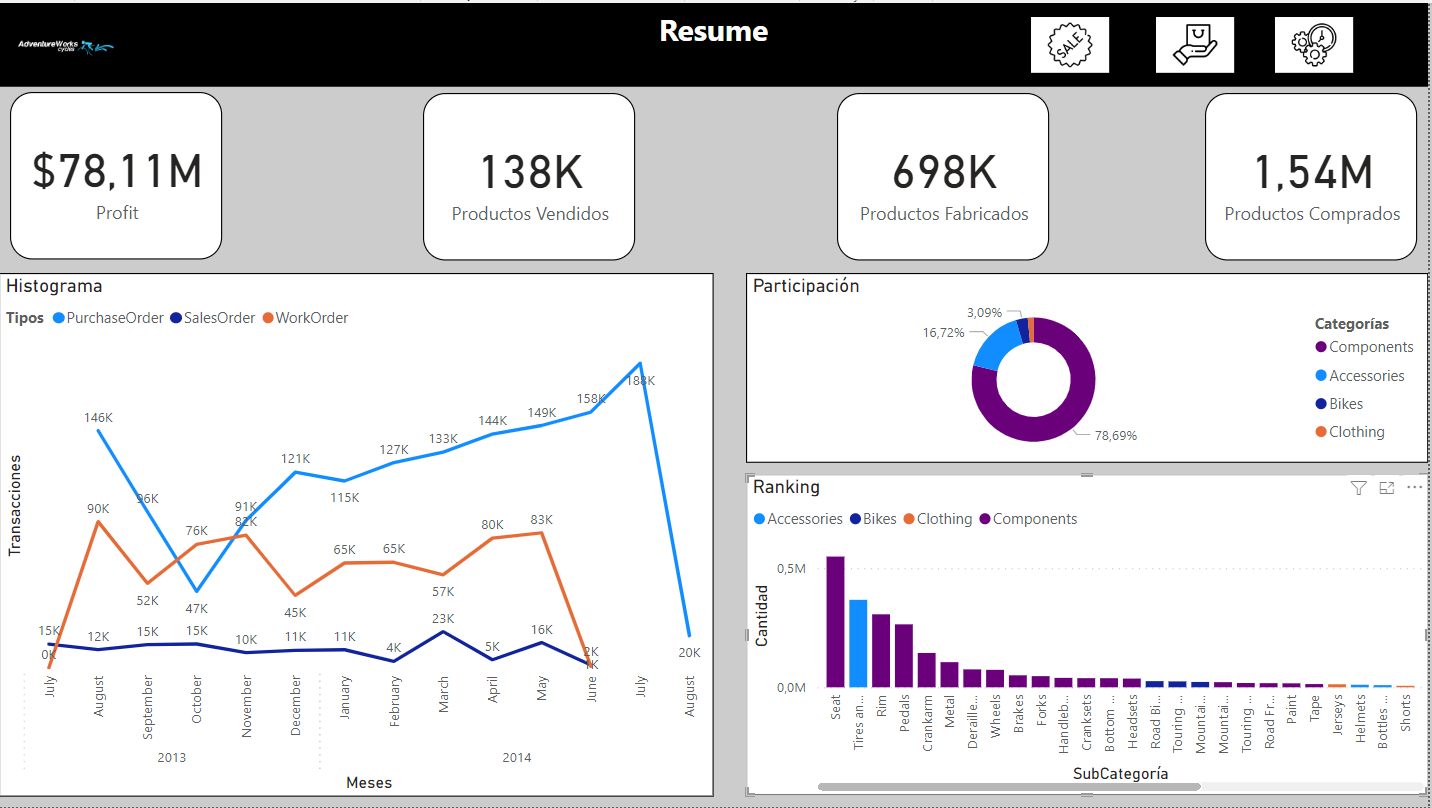

This screenshot's page, from the dashboard's own definition file:
{"tool":"powerbi","page":{"name":"Resume","canvas":[1280,720],"ordinal":1},"visuals":[{"type":"textbox","box":[0,0,1279.7,75.2],"z":500},{"type":"image","box":[0,0,120,80],"z":6000},{"type":"image","box":[950,15,69.9,50.1],"z":7000},{"type":"image","box":[1050,15,69.9,50.1],"z":8000},{"type":"image","box":[1150,15,69.9,50.1],"z":9000},{"type":"card","fields":{"Values":["Total.Profit"]},"box":[10,80,189.7,150.4],"z":10000},{"type":"card","fields":{"Values":["Total.ProductWork"]},"box":[750,80.5,189.7,150.4],"z":11000},{"type":"card","fields":{"Values":["Total.TotalProductofromWS"]},"box":[380,80.5,189.7,150.4],"z":12000},{"type":"lineChart","title":"Histograma ","fields":{"Series":["Sales.TransactionType"],"Y":["Sum(Sales.Quantity)"],"Category":["Calendar.SalesDate.Variation.Date Hierarchy.Year","Calendar.SalesDate.Variation.Date Hierarchy.Month"]},"box":[0,241.4,640,468.5],"z":13000},{"type":"card","fields":{"Values":["Total.ProductPurchase"]},"box":[1080,80.5,189.7,150.4],"z":14000},{"type":"donutChart","title":"Participación","fields":{"Category":["Sales.Category.Name"],"Y":["Sum(Sales.Quantity)"]},"box":[668.7,241.4,611.3,169.6],"z":15000},{"type":"columnChart","title":"Ranking","fields":{"Category":["Sales.SubCategory.Name"],"Y":["Sum(Sales.Quantity)"],"Series":["Sales.Category.Name"]},"box":[668.7,421.6,611.3,288.4],"z":16000}]}

Visuals, with their boxes in screenshot pixels (x1, y1, x2, y2), scaled from the page's 1280x720 canvas onto the 1432x808 screenshot:
textbox: 0, 0, 1431, 84
image: 0, 0, 134, 90
image: 1063, 17, 1141, 73
image: 1175, 17, 1253, 73
image: 1287, 17, 1365, 73
card - Total.Profit: 11, 90, 223, 259
card - Total.ProductWork: 839, 90, 1051, 259
card - Total.TotalProductofromWS: 425, 90, 637, 259
"Histograma " lineChart: 0, 271, 716, 797
card - Total.ProductPurchase: 1208, 90, 1420, 259
"Participación" donutChart: 748, 271, 1431, 461
"Ranking" columnChart: 748, 473, 1431, 797
